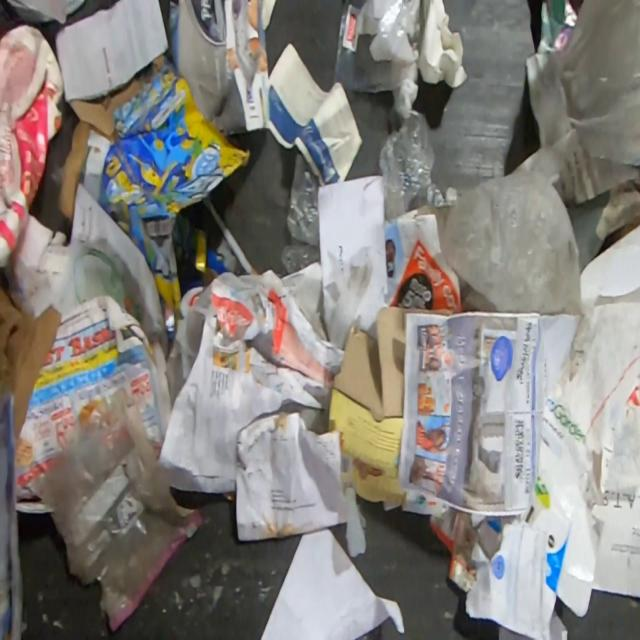cardboard: (56, 51, 252, 314), (324, 304, 452, 512), (0, 22, 64, 269), (168, 0, 277, 136), (526, 437, 598, 640), (0, 278, 62, 435)
soft_plastic: (31, 385, 204, 633), (511, 0, 640, 185), (440, 167, 583, 314), (331, 0, 422, 109), (378, 104, 458, 223), (280, 153, 321, 275)
